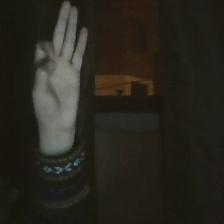F: (23, 2, 94, 134)
